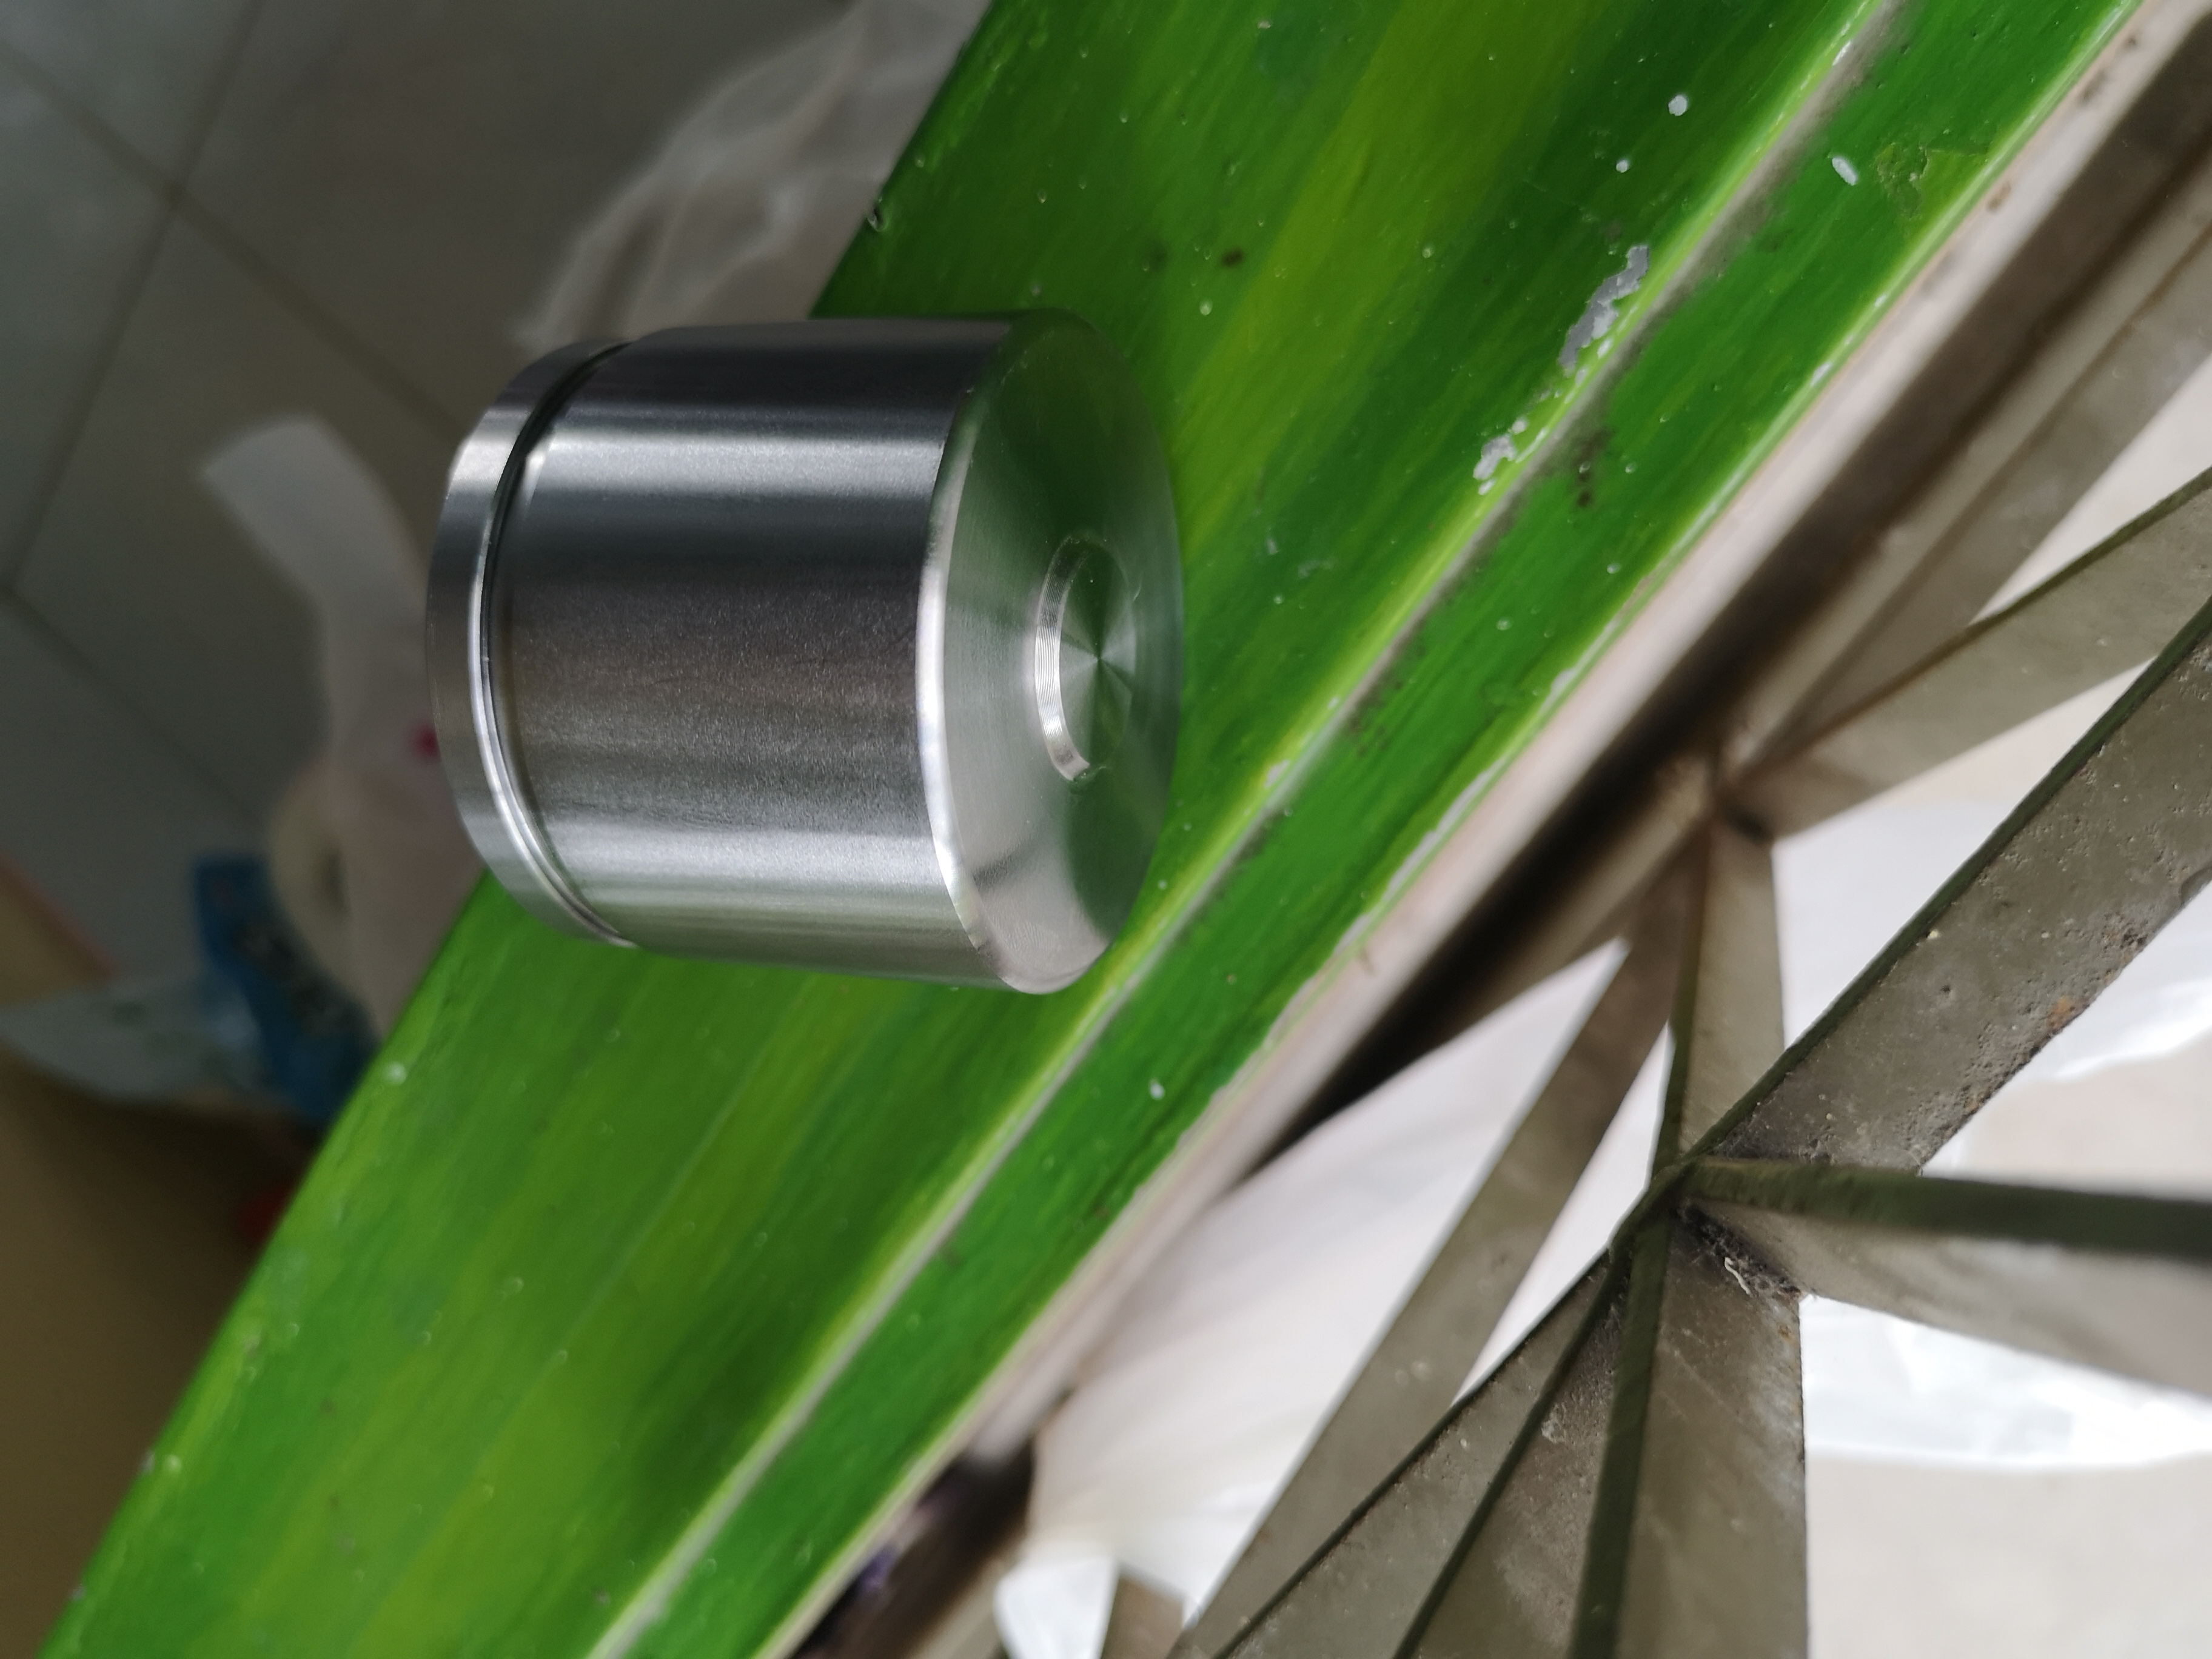ลูกสูบดิสเบรค: (413, 289, 1204, 1079)
